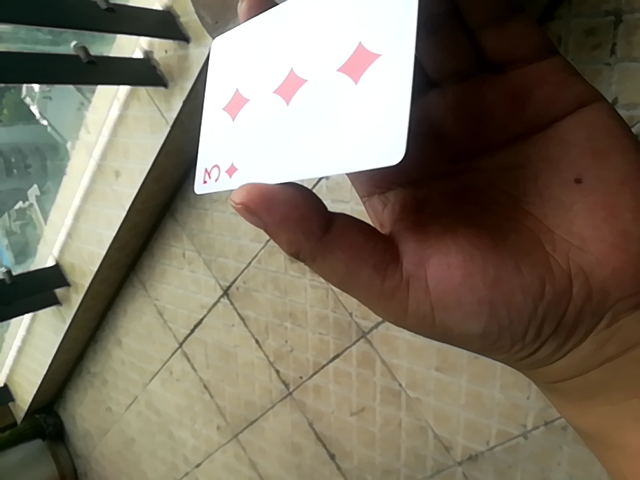fk 3: (188, 0, 420, 203)
